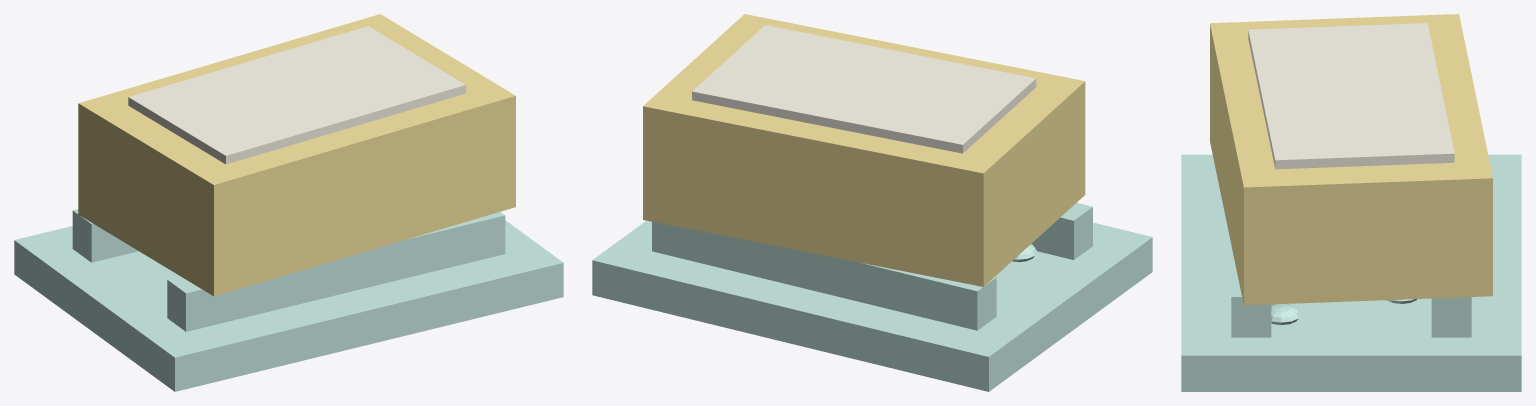
File: item_74_soap_bar.glb
3 renders of one model, left to right at view 1: azimuth 30°, elevation 25°; view 2: azimuth 150°, elevation 25°; view 3: azimuth 270°, elevation 25°, orthographic. The views are drawn at different scales.
Parts seen in each view (by area): view 1: I74_Soap, I74_Dish, I74_SoapTop, I74_Rail0, I74_Rail1; view 2: I74_Soap, I74_Dish, I74_SoapTop, I74_Rail1, I74_Rail0; view 3: I74_Soap, I74_Dish, I74_SoapTop, I74_Rail0, I74_Rail1, I74_Dimple2.
Boxes of the visible parts, left/top/right/bottom form: I74_Soap: left=78, top=14, right=515, bottom=296; I74_Dish: left=14, top=220, right=563, bottom=391; I74_SoapTop: left=128, top=26, right=465, bottom=164; I74_Rail0: left=167, top=212, right=505, bottom=331; I74_Rail1: left=72, top=209, right=138, bottom=262; I74_Soap: left=643, top=14, right=1085, bottom=286; I74_Dish: left=592, top=220, right=1152, bottom=391; I74_SoapTop: left=692, top=25, right=1036, bottom=153; I74_Rail1: left=652, top=221, right=996, bottom=330; I74_Rail0: left=1031, top=203, right=1092, bottom=259; I74_Soap: left=1210, top=14, right=1492, bottom=305; I74_Dish: left=1181, top=154, right=1521, bottom=391; I74_SoapTop: left=1248, top=23, right=1454, bottom=169; I74_Rail0: left=1231, top=246, right=1271, bottom=337; I74_Rail1: left=1431, top=297, right=1471, bottom=337; I74_Dimple2: left=1271, top=304, right=1301, bottom=324.
Bounding box in the file's own units: 0.095 × 0.045 × 0.068.
